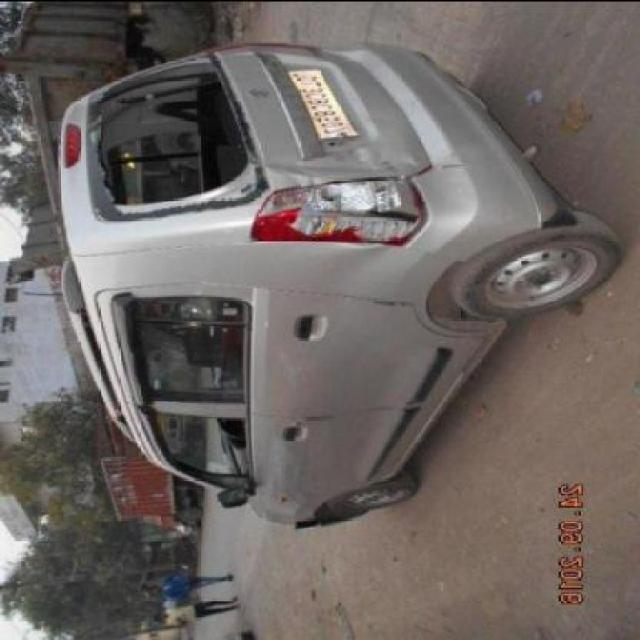damage: (93, 51, 262, 209), (263, 175, 431, 250), (265, 145, 468, 185)
